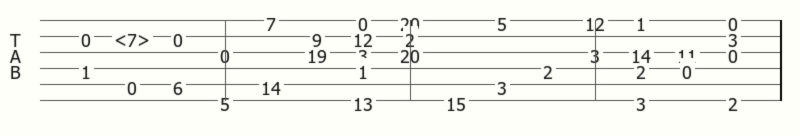0: (81, 28, 95, 45), (127, 76, 141, 93), (173, 28, 187, 45), (220, 44, 234, 61), (358, 12, 372, 29), (682, 60, 696, 77), (728, 44, 742, 61), (728, 12, 742, 29)
1: (81, 60, 95, 77), (358, 60, 372, 77), (636, 12, 650, 29)
11: (677, 44, 701, 61)
12: (353, 28, 377, 45), (585, 12, 609, 29)
13: (353, 92, 377, 109)
14: (261, 76, 285, 93), (631, 44, 655, 61)
15: (446, 92, 470, 109)
19: (307, 44, 331, 61)
2: (405, 28, 419, 45), (543, 60, 557, 77), (636, 60, 650, 77), (728, 92, 742, 109)
20: (400, 44, 424, 61), (400, 12, 424, 29)
3: (358, 44, 372, 61), (497, 76, 511, 93), (590, 44, 604, 61), (636, 92, 650, 109), (728, 28, 742, 45)
5: (220, 92, 234, 109), (497, 12, 511, 29)
6: (173, 76, 187, 93)
7: (266, 12, 280, 29)
9: (312, 28, 326, 45)
harmonic: (114, 28, 154, 45)
